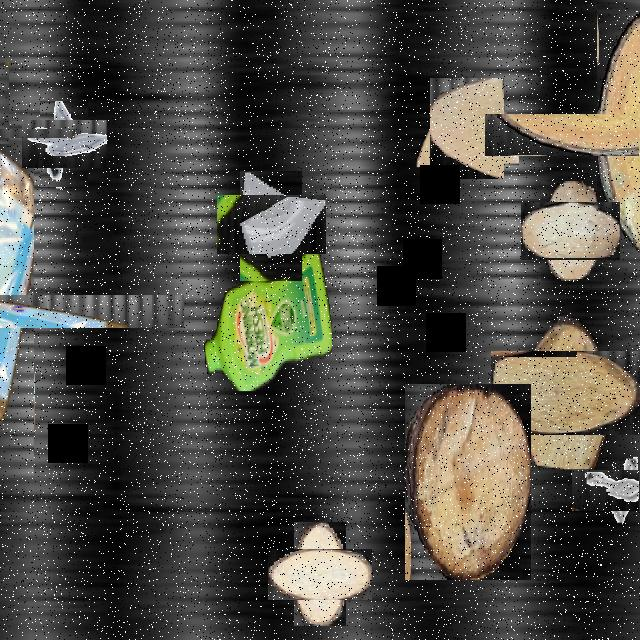glass: (228, 183, 314, 269)
metal: (31, 111, 98, 177), (585, 456, 640, 524)
plastic: (0, 219, 109, 403), (204, 254, 332, 390)
wood: (405, 384, 531, 580), (541, 57, 640, 212), (508, 334, 626, 452), (423, 84, 511, 172), (530, 192, 610, 270), (281, 535, 359, 613), (0, 95, 42, 171)
